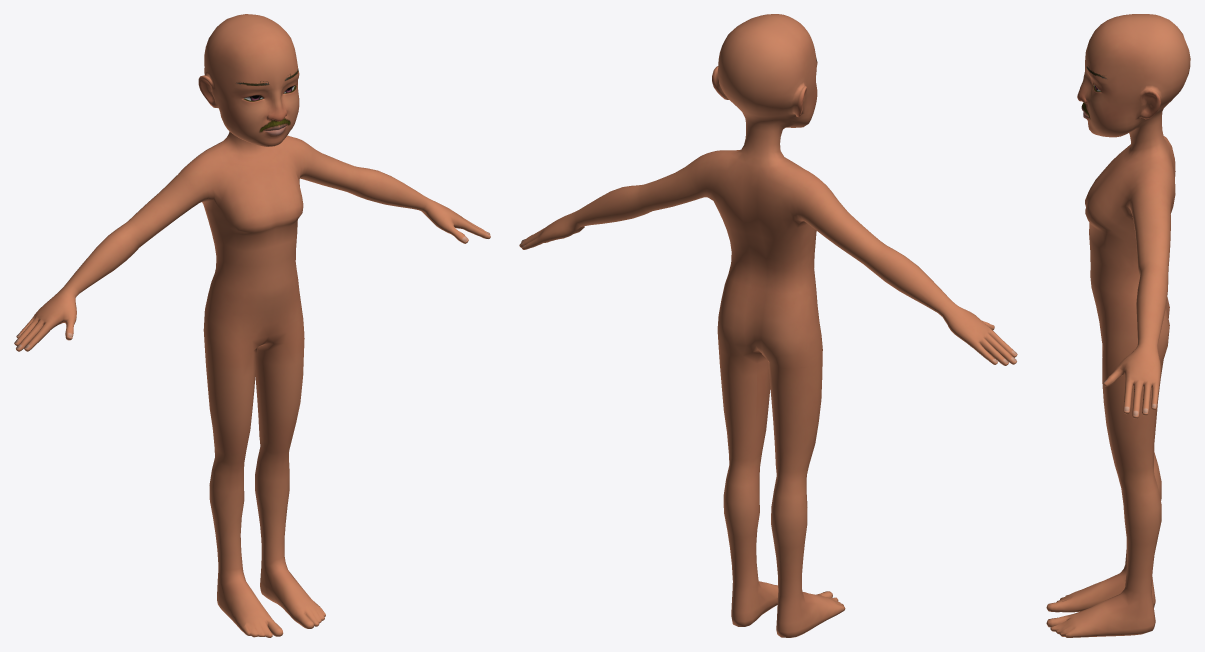
Rendered from frame_0030.glb.
3 renders of one model, left to right at view 1: azimuth 30°, elevation 25°; view 2: azimuth 150°, elevation 25°; view 3: azimuth 270°, elevation 25°, orthographic. The views are drawn at different scales.
Parts seen in each view (by area): view 1: frame_0030_head_geo; view 2: frame_0030_head_geo; view 3: frame_0030_head_geo.
Part boxes in pixels (box(x1,y1,x2,y2)): frame_0030_head_geo: box(14, 14, 490, 637); frame_0030_head_geo: box(519, 14, 1017, 637); frame_0030_head_geo: box(1046, 14, 1190, 637).
Bounding box in the file's own units: 1.28 × 1.5 × 0.3253.
Materials: 3 (3 with a texture image).
